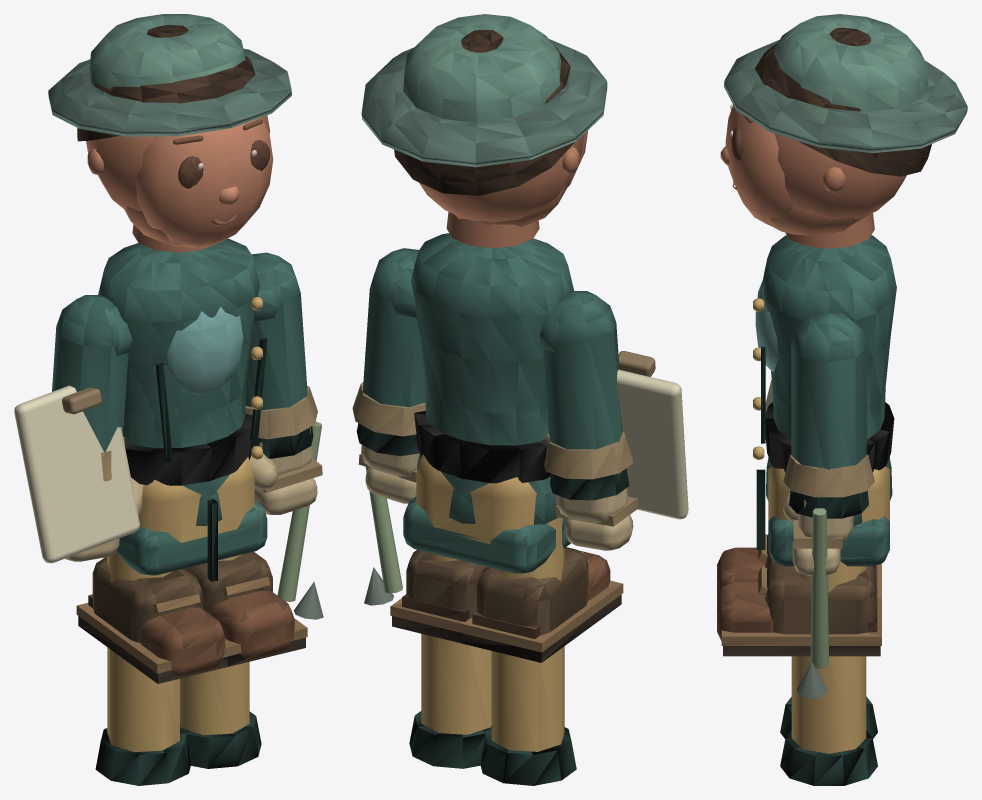
Rendered from park-yuna.glb.
The picture shows the model from 3 angles, left to right: view 1: azimuth 30°, elevation 25°; view 2: azimuth 150°, elevation 25°; view 3: azimuth 270°, elevation 25°; orthographic projection.
Visible parts, largest first — view 1: coat, legs, figureDetail, hat, fieldClipboard, armRightMesh, armLeftMesh, trousers, handRightMesh, soilProbe, handLeftMesh, clipboardClip (+2 smaller); view 2: coat, legs, hat, armLeftMesh, figureDetail, armRightMesh, fieldClipboard, handLeftMesh, trousers, handRightMesh, neck, soilProbe (+2 smaller); view 3: legs, hat, coat, figureDetail, armRightMesh, handRightMesh, trousers, soilProbe, neck, soilProbeTip.
Boxes of the visible parts, left/top/right/bottom form: coat: left=98, top=238, right=267, bottom=575; legs: left=76, top=551, right=307, bottom=785; figureDetail: left=77, top=25, right=273, bottom=247; hat: left=48, top=14, right=291, bottom=136; fieldClipboard: left=14, top=385, right=139, bottom=563; armRightMesh: left=245, top=252, right=313, bottom=458; armLeftMesh: left=52, top=295, right=132, bottom=452; trousers: left=138, top=457, right=254, bottom=581; handRightMesh: left=245, top=385, right=322, bottom=514; soilProbe: left=277, top=421, right=321, bottom=601; handLeftMesh: left=65, top=436, right=143, bottom=561; clipboardClip: left=62, top=387, right=101, bottom=414; coat: left=403, top=233, right=573, bottom=573; legs: left=390, top=477, right=623, bottom=785; hat: left=361, top=14, right=607, bottom=167; armLeftMesh: left=539, top=291, right=629, bottom=500; figureDetail: left=394, top=30, right=587, bottom=226; armRightMesh: left=356, top=248, right=425, bottom=456; fieldClipboard: left=617, top=369, right=688, bottom=519; handLeftMesh: left=544, top=431, right=638, bottom=550; trousers: left=416, top=454, right=536, bottom=544; handRightMesh: left=352, top=382, right=425, bottom=503; neck: left=446, top=212, right=539, bottom=248; soilProbe: left=365, top=467, right=402, bottom=593; legs: left=717, top=534, right=881, bottom=785; hat: left=724, top=14, right=967, bottom=153; coat: left=753, top=235, right=896, bottom=566; figureDetail: left=720, top=28, right=931, bottom=235; armRightMesh: left=789, top=312, right=868, bottom=518; handRightMesh: left=783, top=454, right=874, bottom=575; trousers: left=756, top=456, right=889, bottom=549; soilProbe: left=810, top=508, right=828, bottom=669; neck: left=785, top=213, right=874, bottom=248; soilProbeTip: left=796, top=662, right=827, bottom=698.
Size of the model in its own units: 0.922 by 2.08 by 0.6449.
